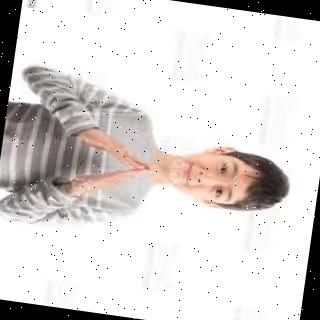House: (49, 114, 164, 210)
